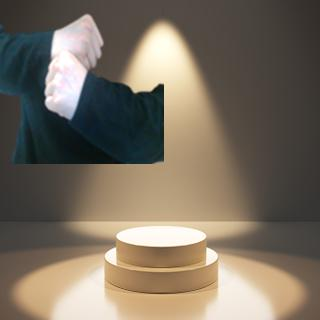CAREFUL: (37, 9, 108, 128)
